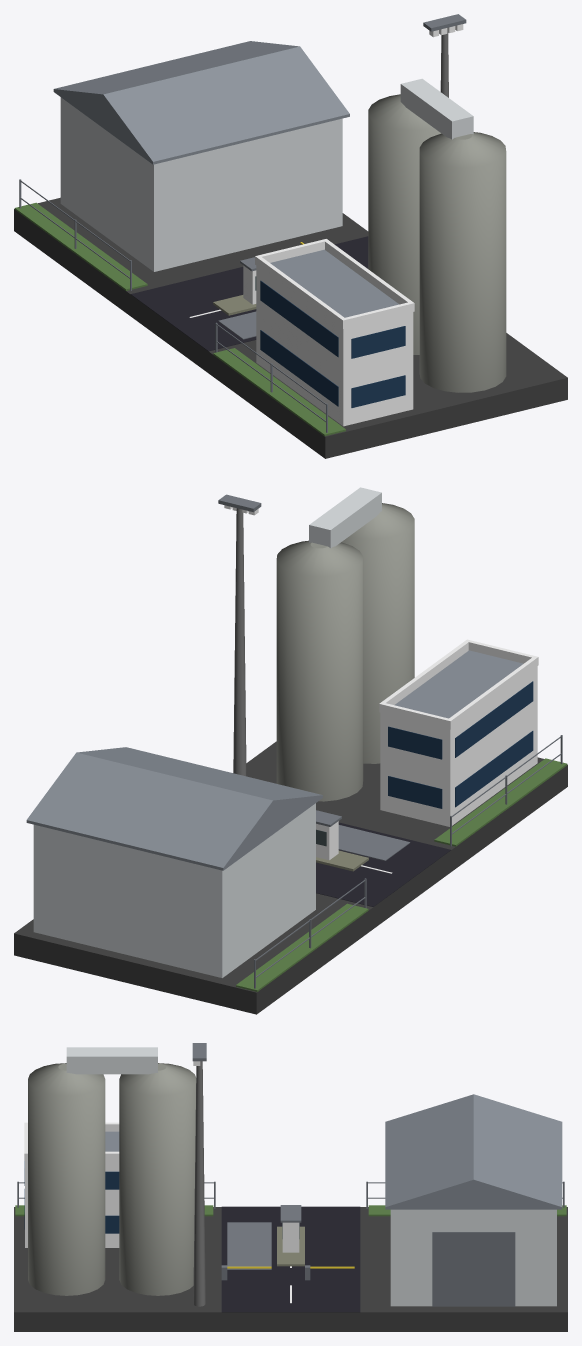
File: port_building.fbx
3 views of the same model, one above another, from view 1: azimuth 30°, elevation 25°; view 2: azimuth 150°, elevation 25°; view 3: azimuth 270°, elevation 25° (orthographic). The views are drawn at different scales.
Visible parts, largest first — view 1: a401_0_port_building; view 2: a401_0_port_building; view 3: a401_0_port_building.
Boxes of the visible parts, x1,y1,x2,y2 form: a401_0_port_building: [14, 14, 567, 458]; a401_0_port_building: [14, 487, 567, 1014]; a401_0_port_building: [14, 1043, 567, 1331].
Bounding box in the file's own units: 18 × 21.75 × 40.
